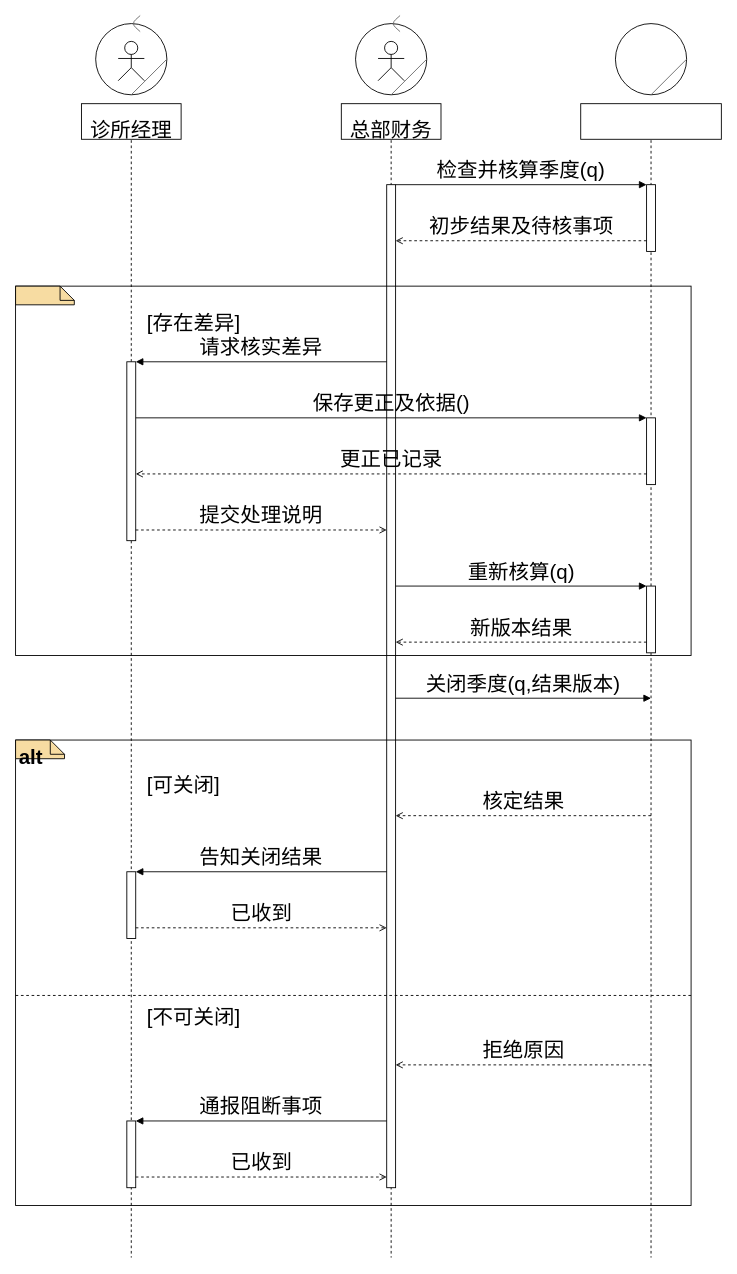
The diagram is 737 pixels wide and 1274 high, and some of its shapes have lost their labels. The centre of each missing label's shape, as x and y in pixels:
opt: point 44,295
诊疗管理系统: point 650,121
